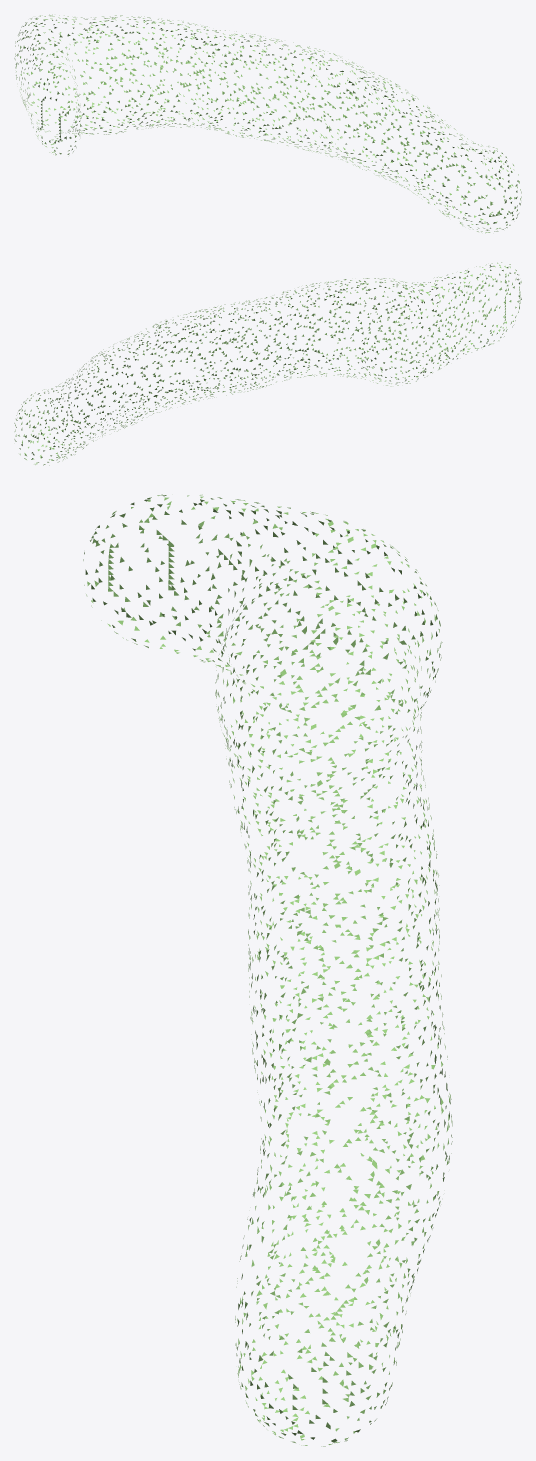
File: morph_014.glb
3 renders of one model, top to bottom at view 1: azimuth 30°, elevation 25°; view 2: azimuth 150°, elevation 25°; view 3: azimuth 270°, elevation 25°, orthographic. The views are drawn at different scales.
Size of the model in its own units: 125 by 73.69 by 44.94.
